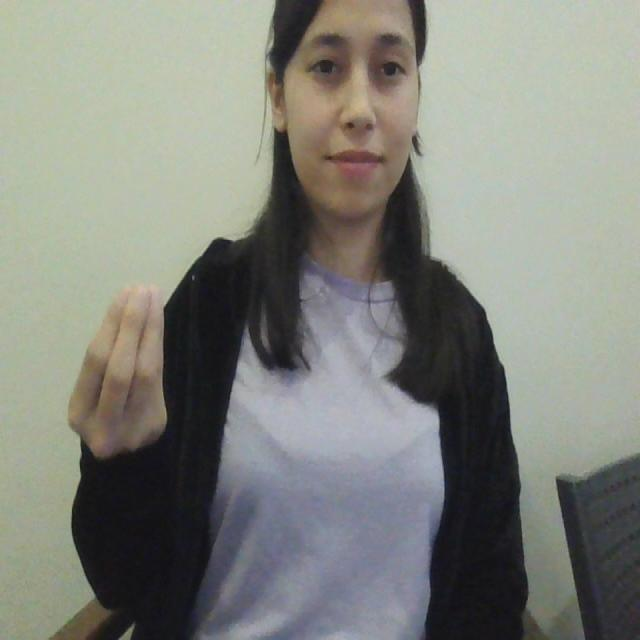iyi: (57, 276, 171, 468)
